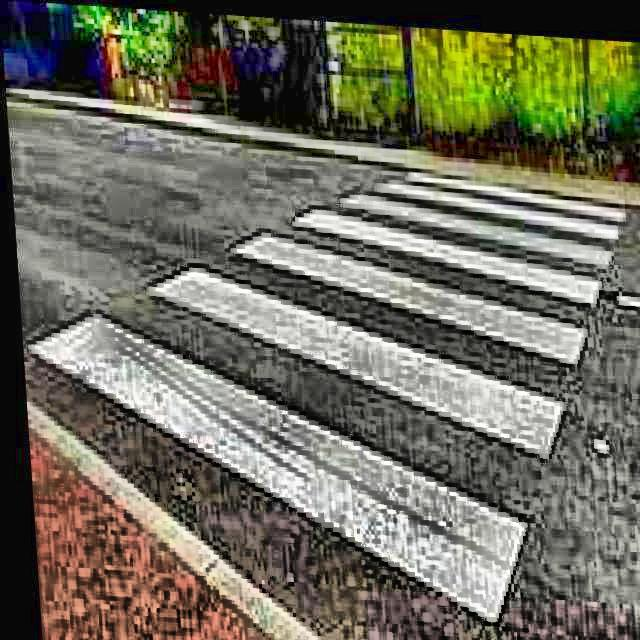faixa de pedestre: (26, 161, 620, 634)
